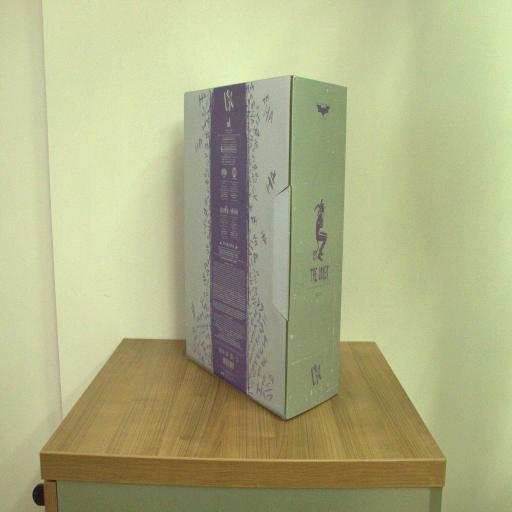Joker: (182, 76, 344, 424)
